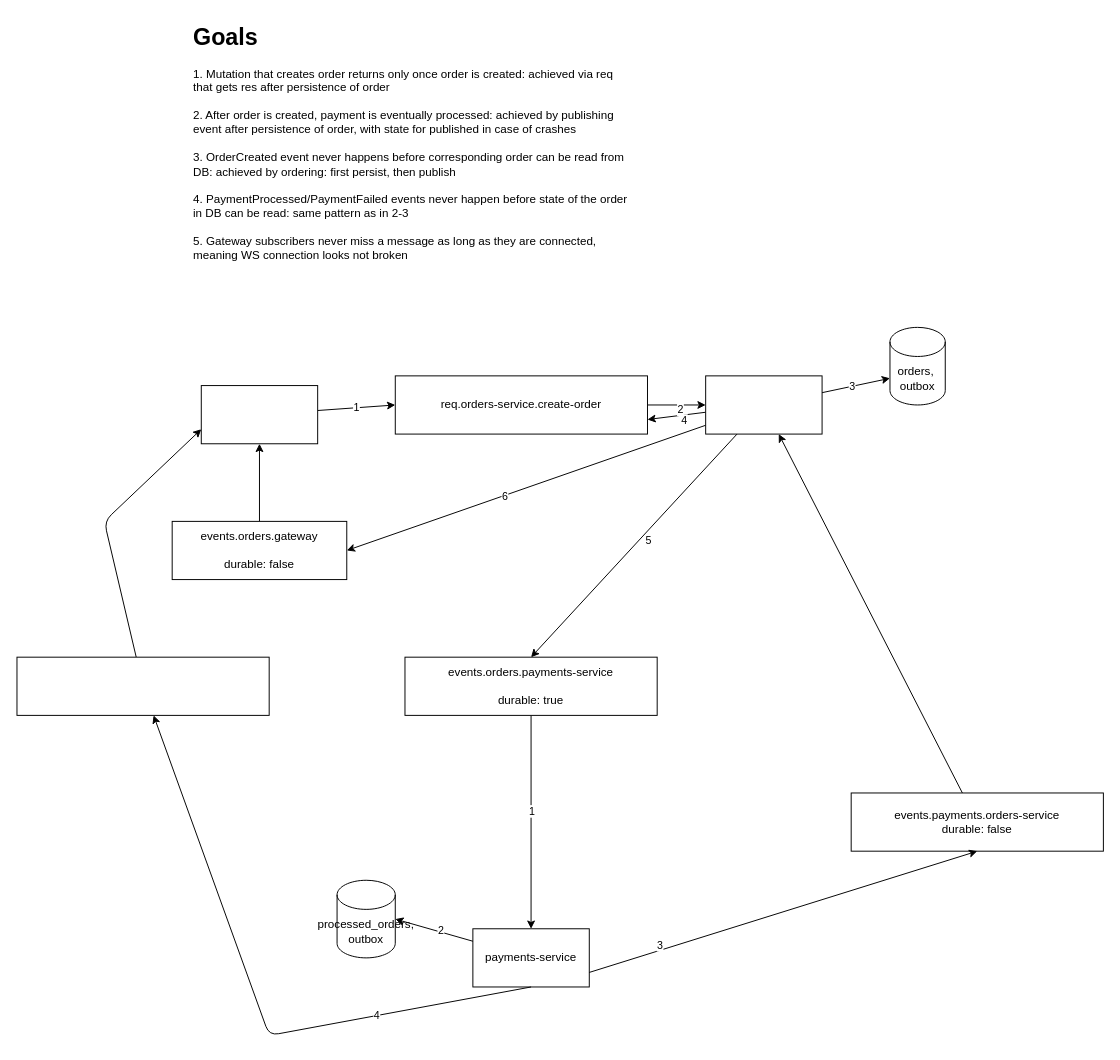
This 1120x1060 diagram has some shape labels left out. Each missing label, with the centre of its shape:
"events.payments.gateway durable: false" goes at point (142, 685).
"graphql-gateway" goes at point (259, 414).
"orders-service" goes at point (763, 404).
